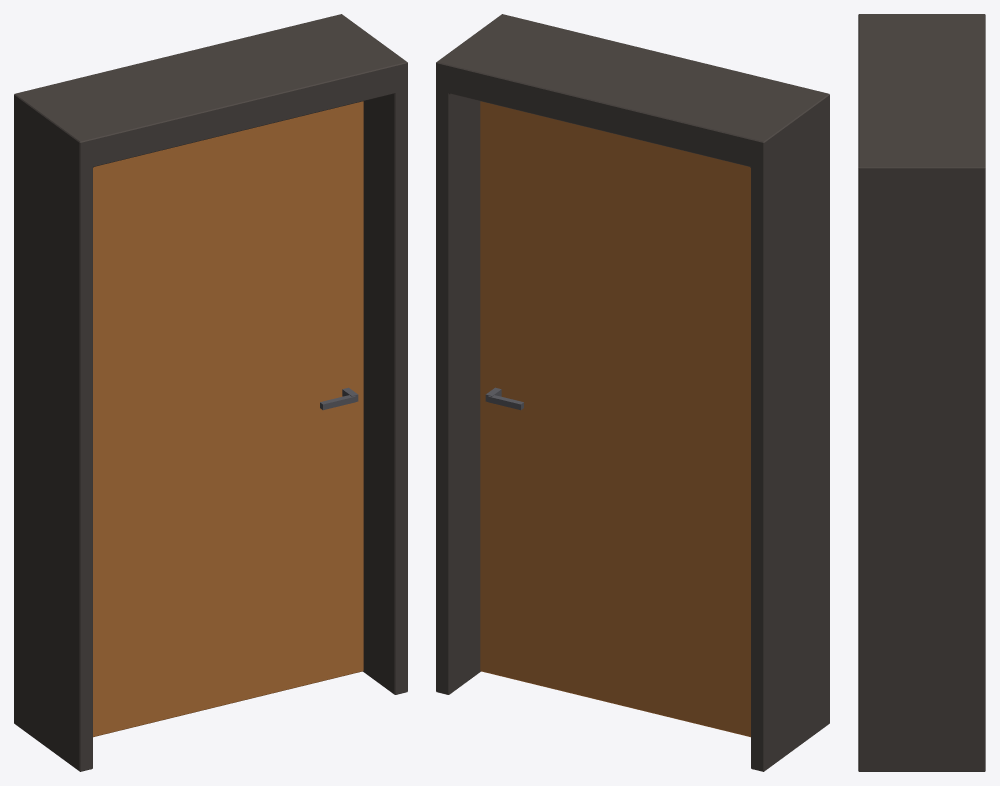
File: arch_door_service_t40.glb
3 renders of one model, left to right at view 1: azimuth 30°, elevation 25°; view 2: azimuth 150°, elevation 25°; view 3: azimuth 270°, elevation 25°, orthographic. The views are drawn at different scales.
Visible parts, largest first — view 1: LeafMesh, Frame; view 2: LeafMesh, Frame; view 3: Frame.
Boxes of the visible parts, x1,y1,x2,y2 form: LeafMesh: (93,101,363,737); Frame: (14,14,407,771); LeafMesh: (480,101,750,737); Frame: (436,14,829,771); Frame: (858,14,985,771).
Size of what is drawn, in the model's own units: 1.2 by 2.2 by 0.42.
